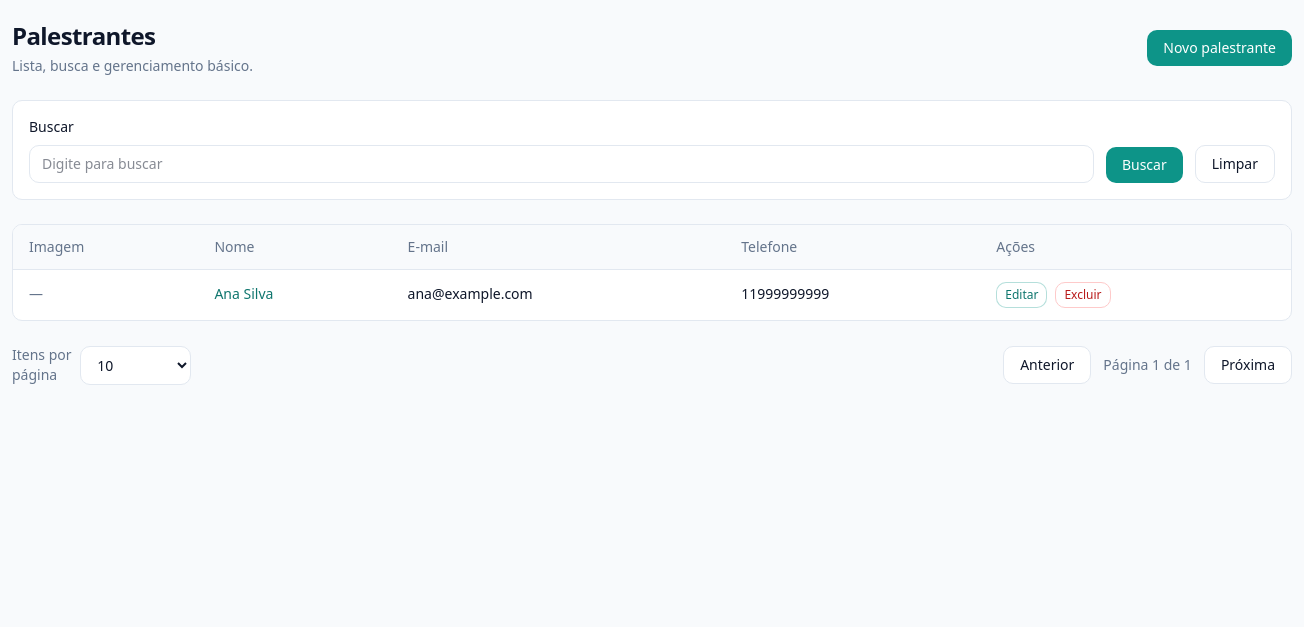
it: PalestrantesPage › limpa busca imediatamente sem q
Type "Ana" into the field with placeholder "Digite para buscar" at (561, 164), box [29,145,1094,183]
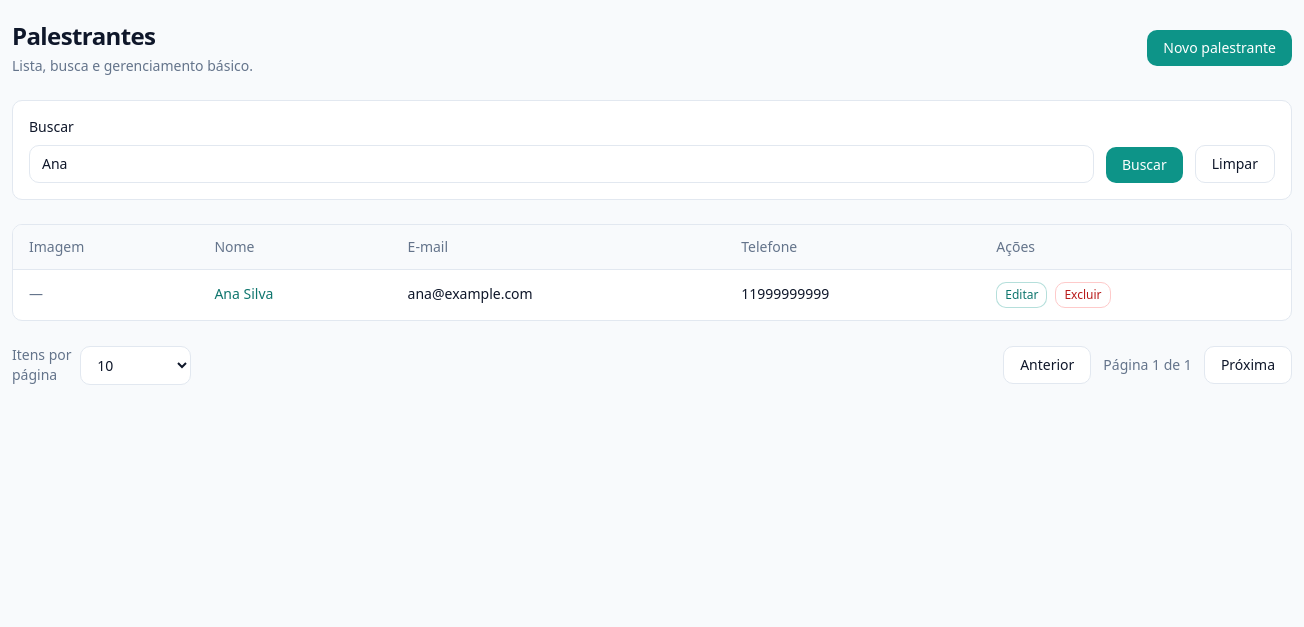
Click the button "Buscar" at (1144, 165), box [1106,147,1183,183]
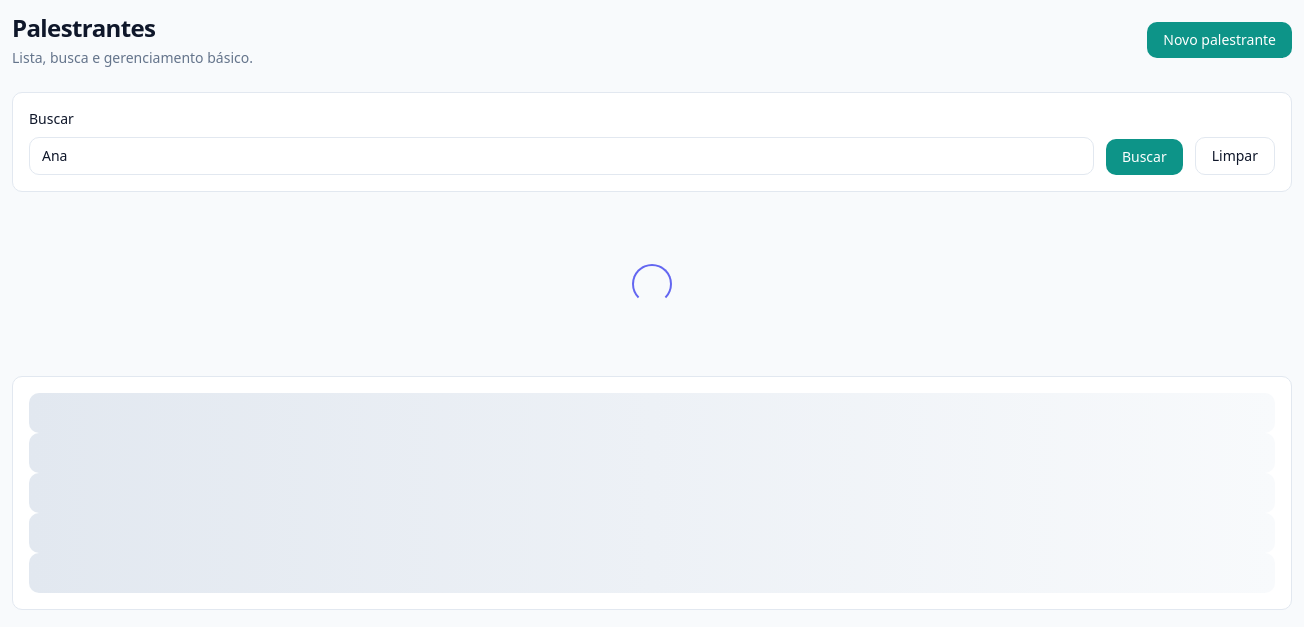
Click the button "Limpar" at (1235, 156), box [1195,137,1275,175]
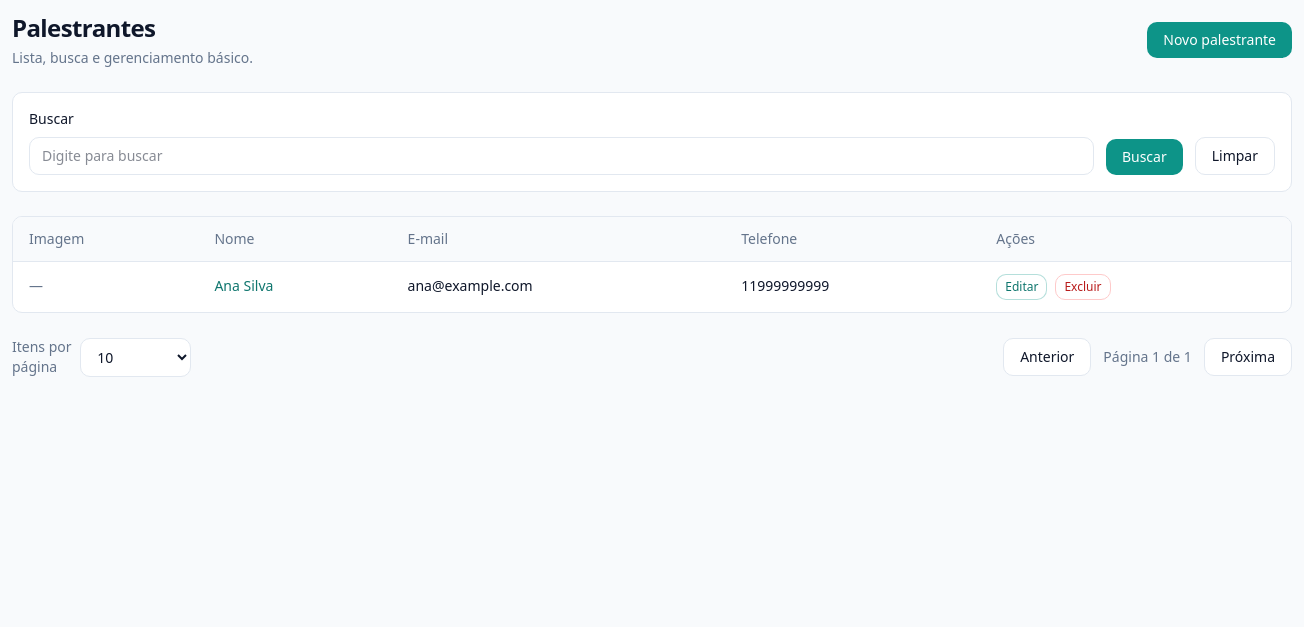
Result: the field with placeholder "Digite para buscar" is empty at [29,137,1094,175]
